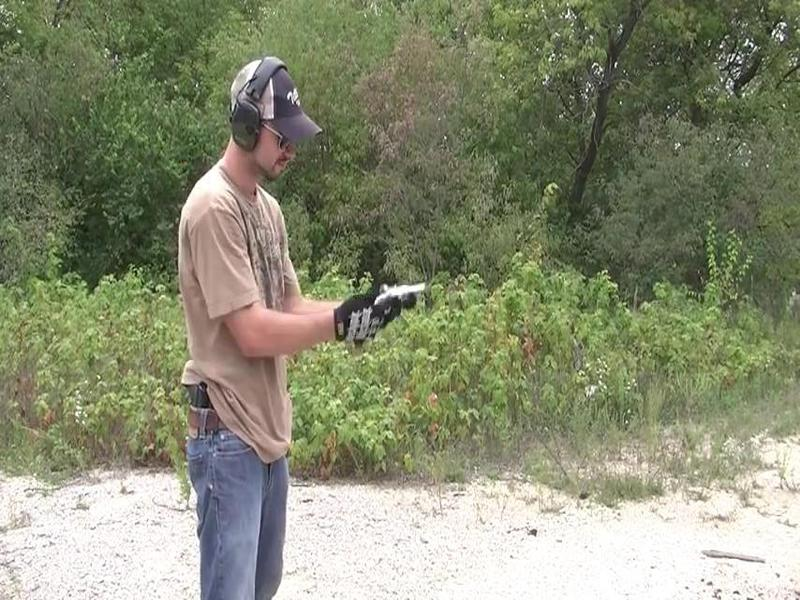Revolver: (370, 258, 445, 335)
